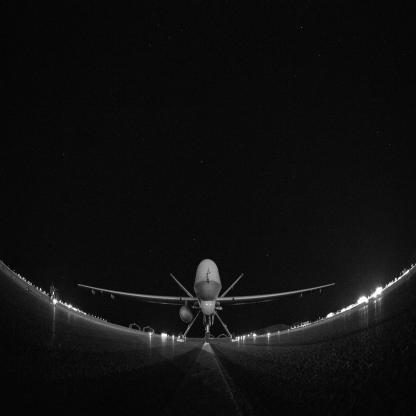MQ9: (79, 260, 336, 344)
